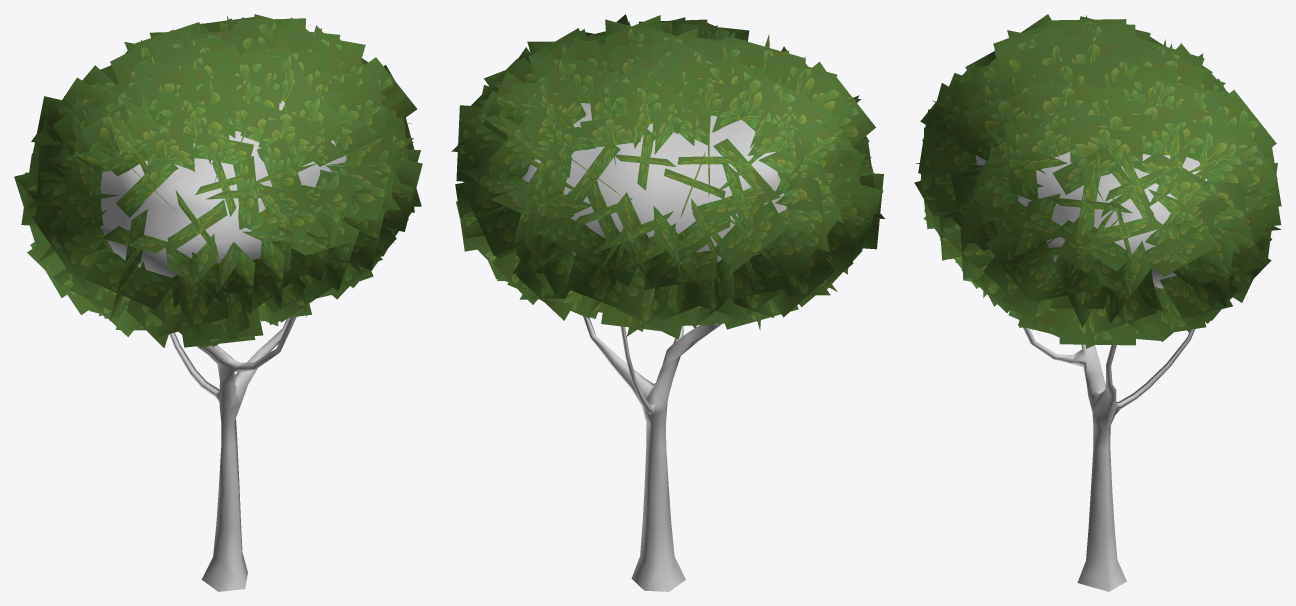
Rendered from Tree_01_LOD1.fbx.
The picture shows the model from 3 angles, left to right: view 1: azimuth 30°, elevation 25°; view 2: azimuth 150°, elevation 25°; view 3: azimuth 270°, elevation 25°; orthographic projection. The views are drawn at different scales.
Parts seen in each view (by area): view 1: polySurface18765; view 2: polySurface18765; view 3: polySurface18765.
Part boxes in pixels (left/top/right/bottom): polySurface18765: left=14, top=14, right=422, bottom=591; polySurface18765: left=451, top=14, right=884, bottom=591; polySurface18765: left=914, top=14, right=1281, bottom=591.
Size of the model in its own units: 559 by 763 by 484.
